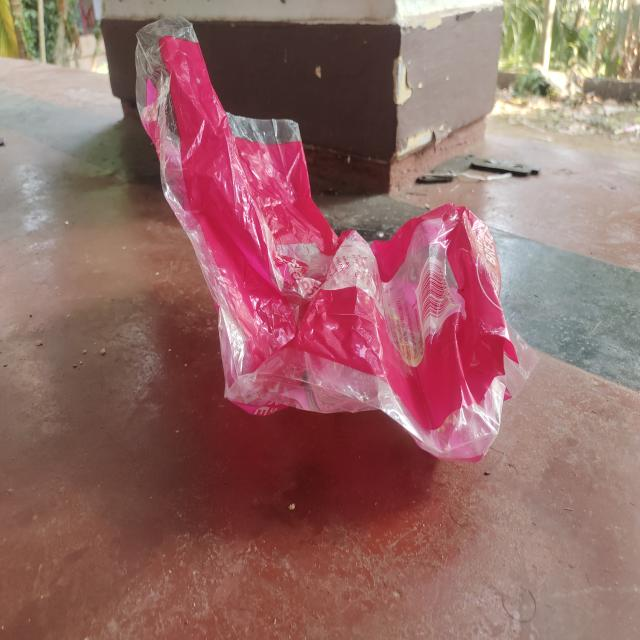plastic: (132, 11, 537, 464)
